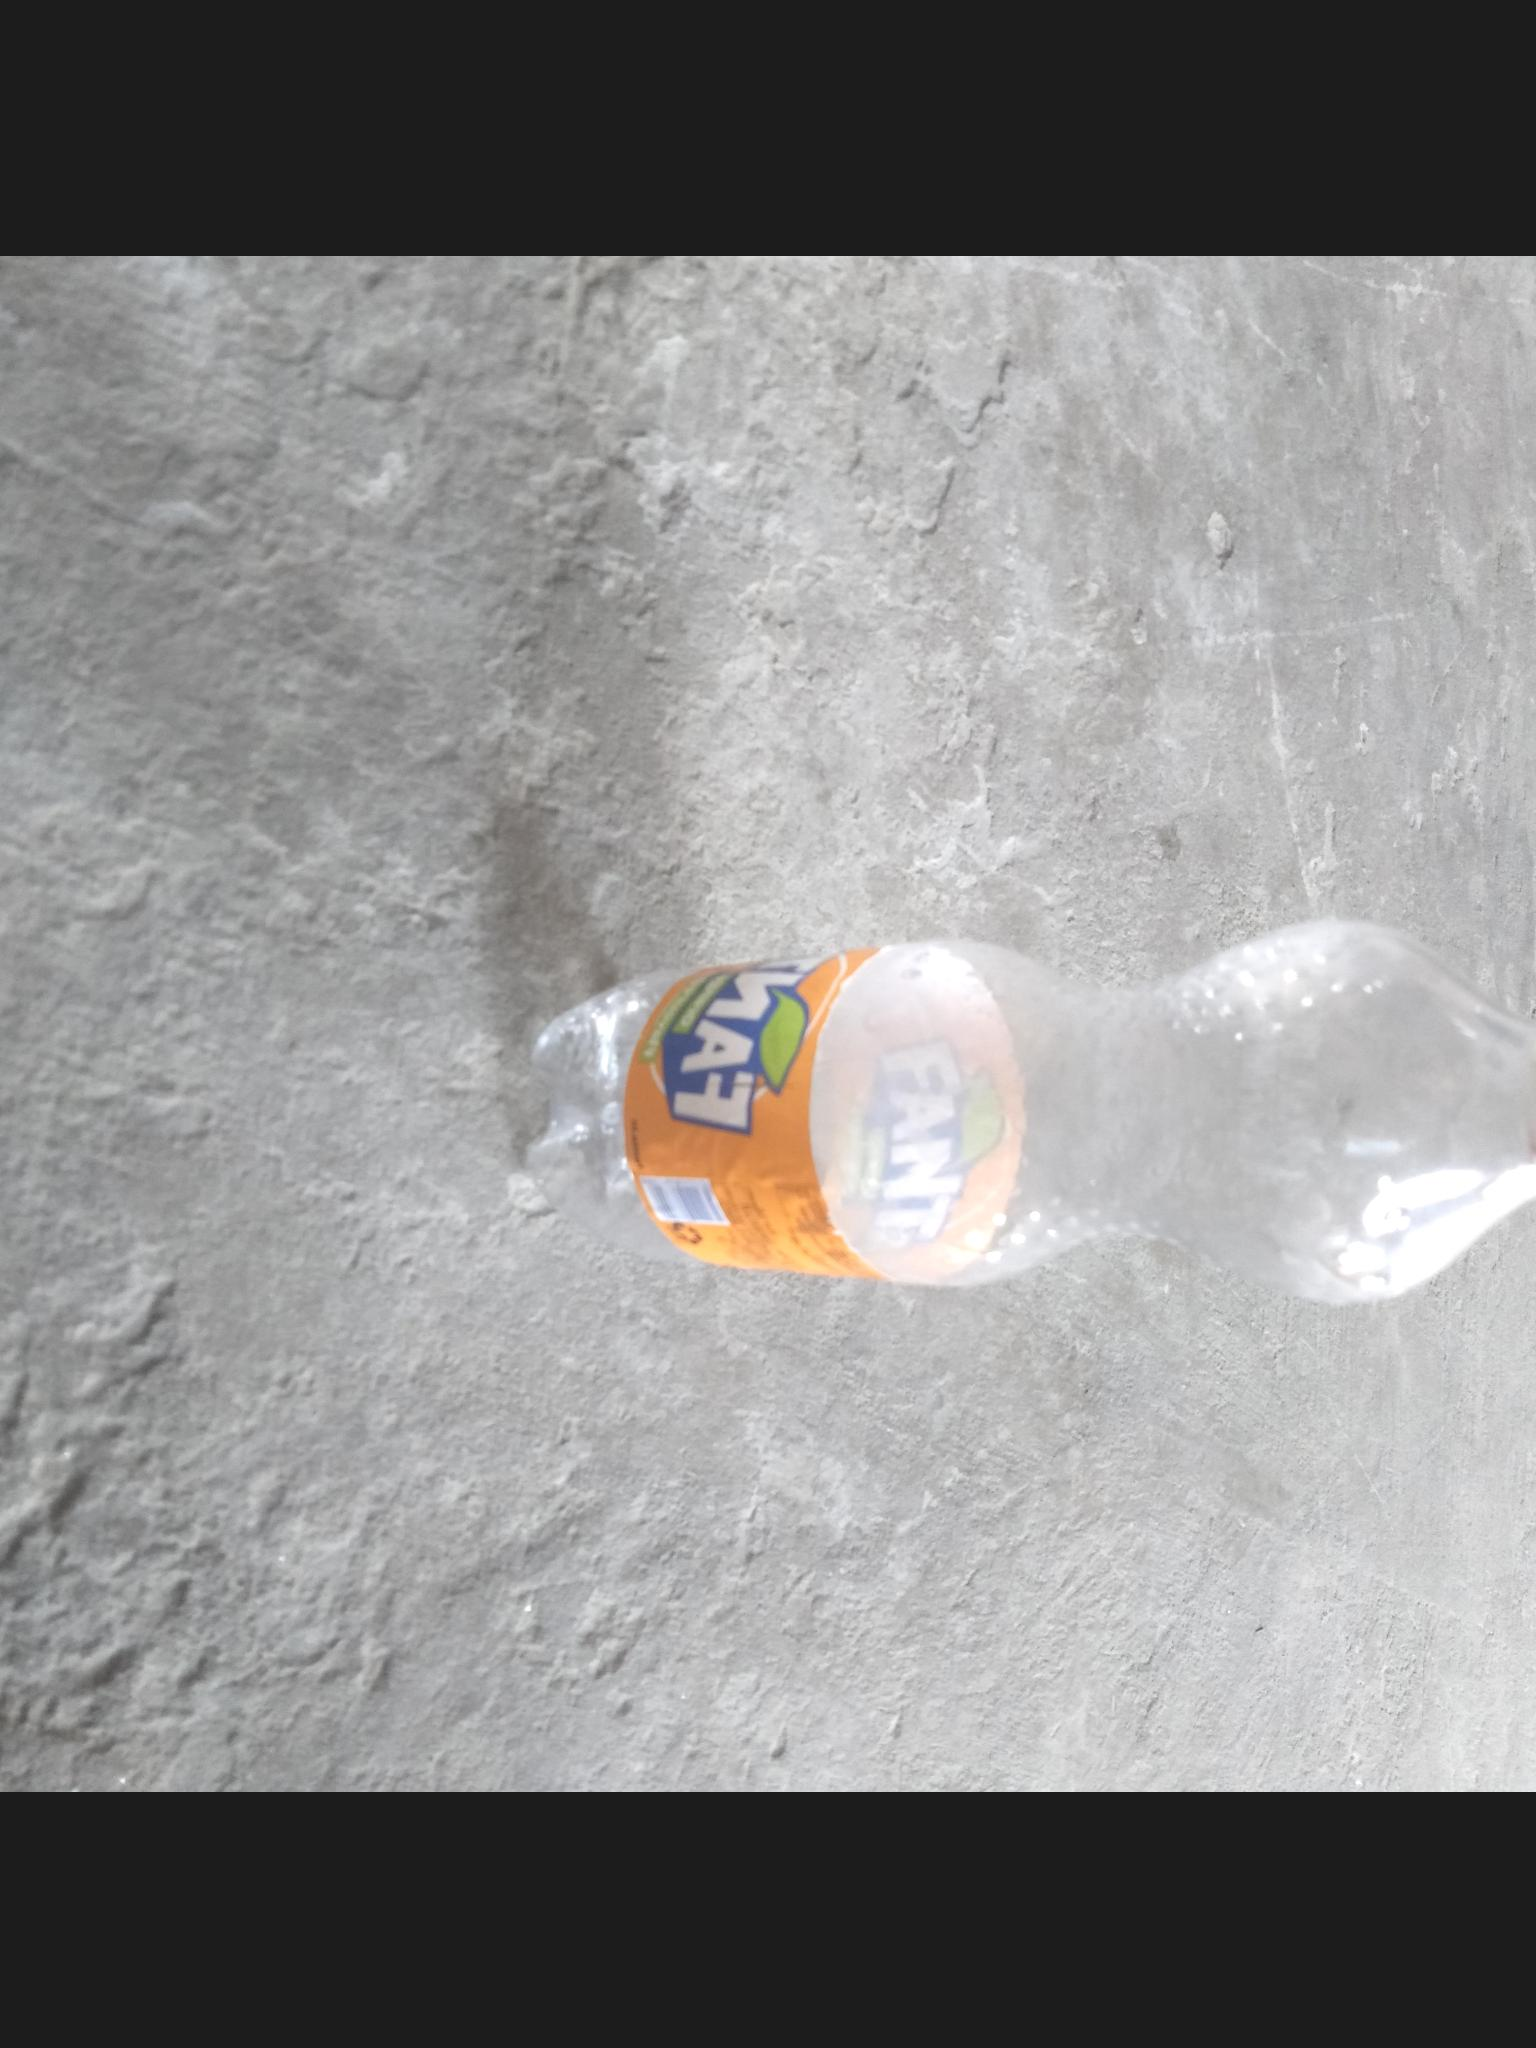bottle: (474, 918, 1536, 1314)
